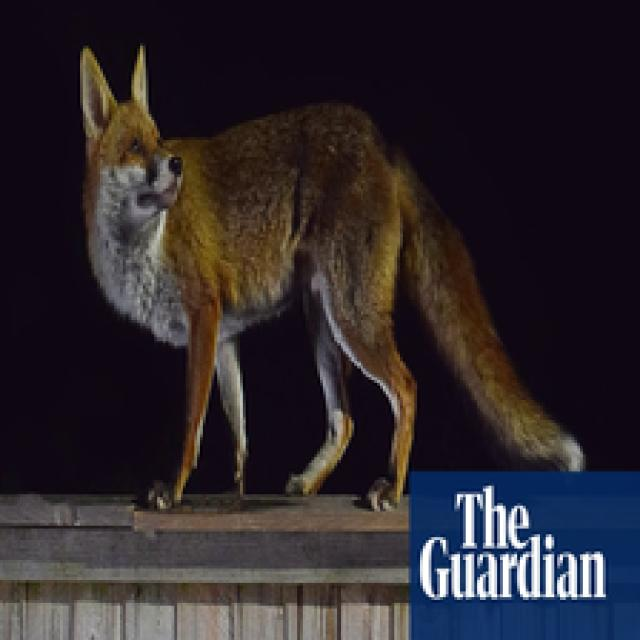fox: (44, 23, 590, 516)
